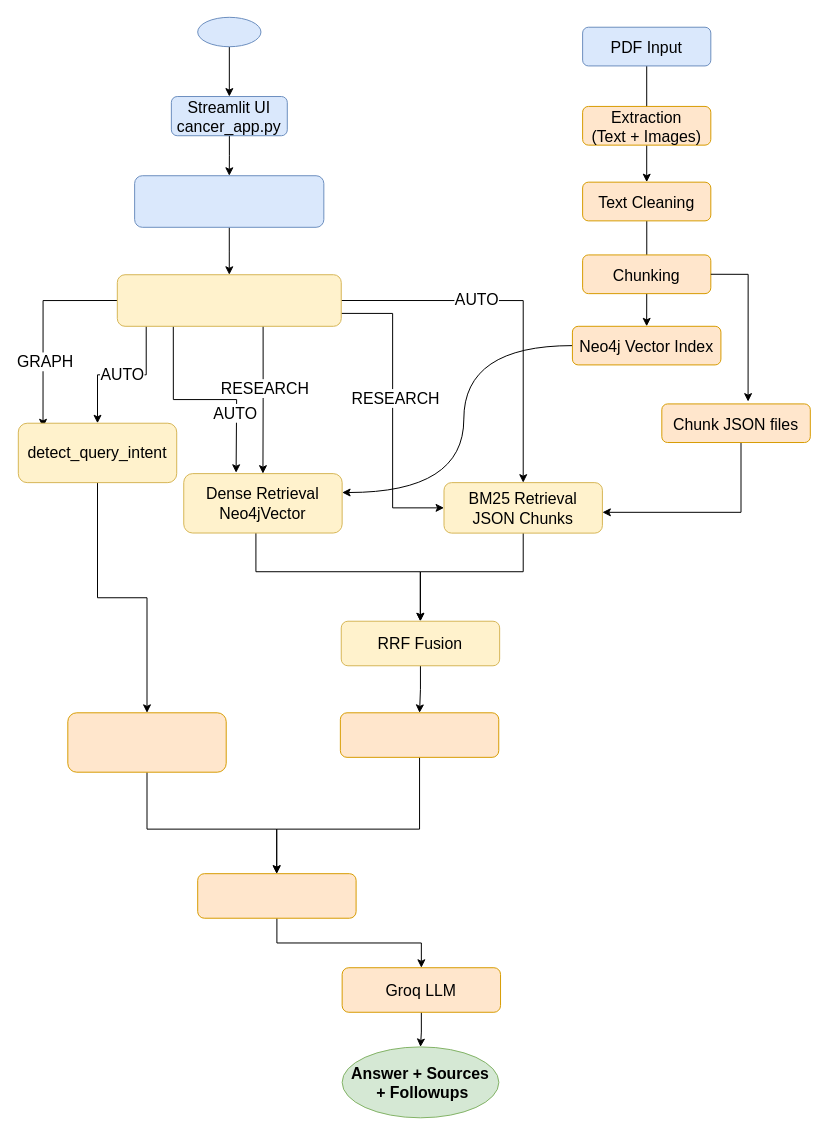
Some shapes in this 828 by 1136 pixel diagram are drawn without their labels. The centre of each missing label's shape, as x and y in pixels:
Context Builder: [276,895]
generate_answer / stream: [229,201]
GraphRetriever (Cypher Queries): [146,742]
MMR Rerank: [419,734]
Query Mode AUTO / GRAPH / RESEARCH: [228,300]
User: [229,31]
